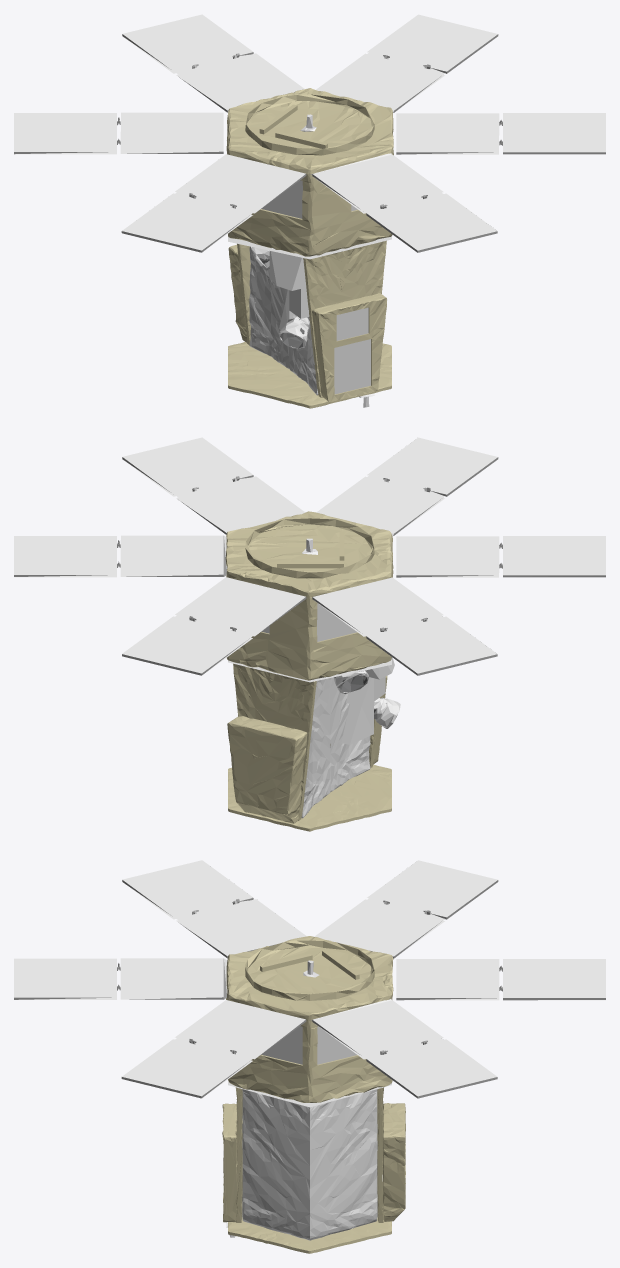
File: sorce.glb
The picture shows the model from 3 angles, top to bottom: view 1: azimuth 30°, elevation 25°; view 2: azimuth 150°, elevation 25°; view 3: azimuth 270°, elevation 25°; orthographic projection.
Visible parts, largest first — view 1: SORCE_vFINAL [Layer11], SORCE_vFINAL [Layer1], SORCE_vFINAL [Layer3], SORCE_vFINAL [Layer8], SORCE_vFINAL [Layer5], SORCE_vFINAL [Layer10], SORCE_vFINAL [Layer12], SORCE_vFINAL [Layer7], SORCE_vFINAL [Layer9], SORCE_vFINAL [Layer15], SORCE_vFINAL [Layer6], SORCE_vFINAL [Layer4] (+1 smaller); view 2: SORCE_vFINAL [Layer11], SORCE_vFINAL [Layer1], SORCE_vFINAL [Layer4], SORCE_vFINAL [Layer2], SORCE_vFINAL [Layer8], SORCE_vFINAL [Layer10], SORCE_vFINAL [Layer9], SORCE_vFINAL [Layer7], SORCE_vFINAL [Layer6], SORCE_vFINAL [Layer15], SORCE_vFINAL [Layer12]; view 3: SORCE_vFINAL [Layer11], SORCE_vFINAL [Layer1], SORCE_vFINAL [Layer6], SORCE_vFINAL [Layer7], SORCE_vFINAL [Layer9], SORCE_vFINAL [Layer4], SORCE_vFINAL [Layer8], SORCE_vFINAL [Layer15], SORCE_vFINAL [Layer5], SORCE_vFINAL [Layer12], SORCE_vFINAL [Layer10], SORCE_vFINAL [Layer2] (+1 smaller).
Part boxes in pixels (box(x1,y1,x2,y2)): SORCE_vFINAL [Layer11]: box(14, 14, 605, 250); SORCE_vFINAL [Layer1]: box(226, 88, 393, 256); SORCE_vFINAL [Layer3]: box(303, 240, 386, 397); SORCE_vFINAL [Layer8]: box(228, 342, 391, 408); SORCE_vFINAL [Layer5]: box(312, 293, 386, 402); SORCE_vFINAL [Layer10]: box(228, 110, 393, 407); SORCE_vFINAL [Layer12]: box(261, 180, 370, 394); SORCE_vFINAL [Layer7]: box(249, 246, 289, 368); SORCE_vFINAL [Layer9]: box(245, 94, 374, 155); SORCE_vFINAL [Layer15]: box(14, 34, 605, 252); SORCE_vFINAL [Layer6]: box(289, 317, 318, 395); SORCE_vFINAL [Layer4]: box(228, 244, 246, 342); SORCE_vFINAL [Layer11]: box(14, 437, 605, 675); SORCE_vFINAL [Layer1]: box(225, 511, 393, 680); SORCE_vFINAL [Layer4]: box(227, 716, 307, 823); SORCE_vFINAL [Layer2]: box(233, 663, 316, 820); SORCE_vFINAL [Layer8]: box(228, 764, 391, 831); SORCE_vFINAL [Layer10]: box(223, 533, 400, 744); SORCE_vFINAL [Layer9]: box(245, 517, 374, 578); SORCE_vFINAL [Layer7]: box(301, 678, 331, 818); SORCE_vFINAL [Layer6]: box(330, 677, 370, 791); SORCE_vFINAL [Layer15]: box(14, 457, 605, 675); SORCE_vFINAL [Layer12]: box(262, 603, 356, 641); SORCE_vFINAL [Layer11]: box(14, 860, 605, 1096); SORCE_vFINAL [Layer1]: box(226, 936, 393, 1102); SORCE_vFINAL [Layer6]: box(242, 1089, 309, 1240); SORCE_vFINAL [Layer7]: box(310, 1089, 377, 1240); SORCE_vFINAL [Layer9]: box(245, 940, 374, 1000); SORCE_vFINAL [Layer4]: box(382, 1103, 405, 1221); SORCE_vFINAL [Layer8]: box(228, 1217, 391, 1253); SORCE_vFINAL [Layer15]: box(14, 880, 605, 1098); SORCE_vFINAL [Layer5]: box(222, 1103, 237, 1222); SORCE_vFINAL [Layer12]: box(261, 1026, 356, 1064); SORCE_vFINAL [Layer10]: box(223, 958, 391, 1237); SORCE_vFINAL [Layer2]: box(377, 1087, 383, 1222).
Bounding box in the file's own units: 230 × 121 × 243.
